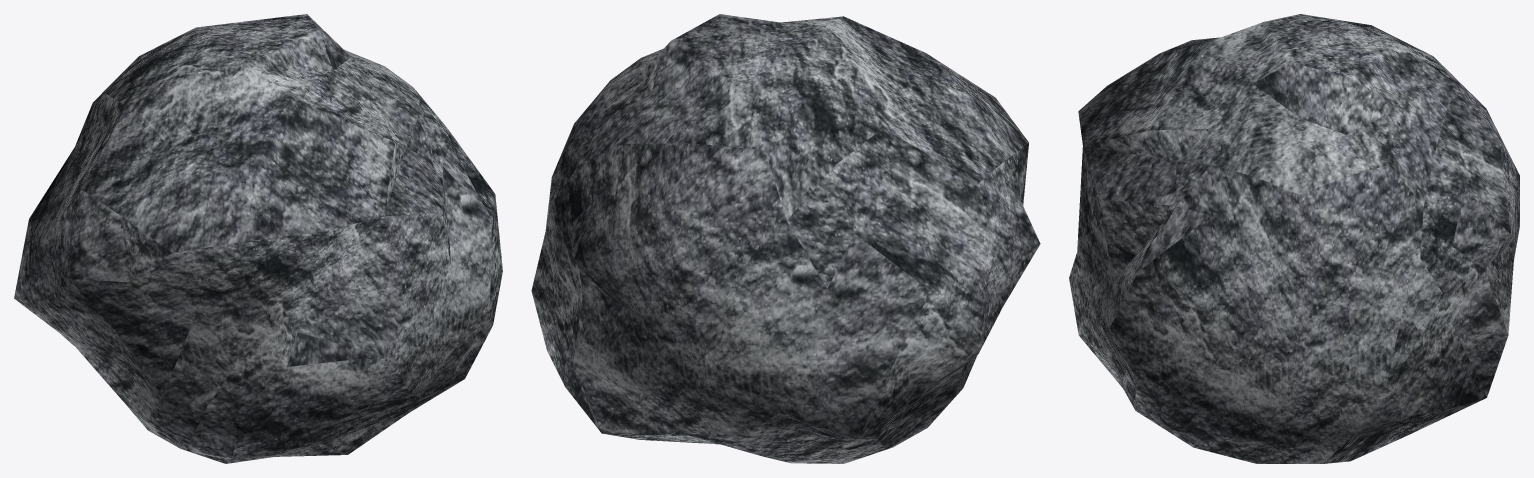
Rendered from Roca Terreno.fbx.
3 views of the same model, side by side, from view 1: azimuth 30°, elevation 25°; view 2: azimuth 150°, elevation 25°; view 3: azimuth 270°, elevation 25° (orthographic). The views are drawn at different scales.
Visible parts, largest first — view 1: Roca; view 2: Roca; view 3: Roca.
Boxes of the visible parts, box(x1,y1,x2,y2) form: Roca: box(14, 14, 502, 463); Roca: box(531, 14, 1040, 463); Roca: box(1069, 14, 1519, 463).
Bounding box in the file's own units: 81.16 × 72.13 × 73.34.
